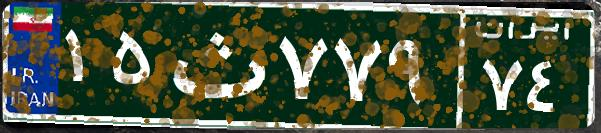1: (57, 26, 110, 107)
4: (525, 38, 570, 115)
5: (110, 28, 158, 105)
7: (273, 28, 330, 110), (330, 28, 385, 110), (475, 38, 525, 113)
9: (385, 28, 445, 110)
ث: (158, 15, 273, 115)
